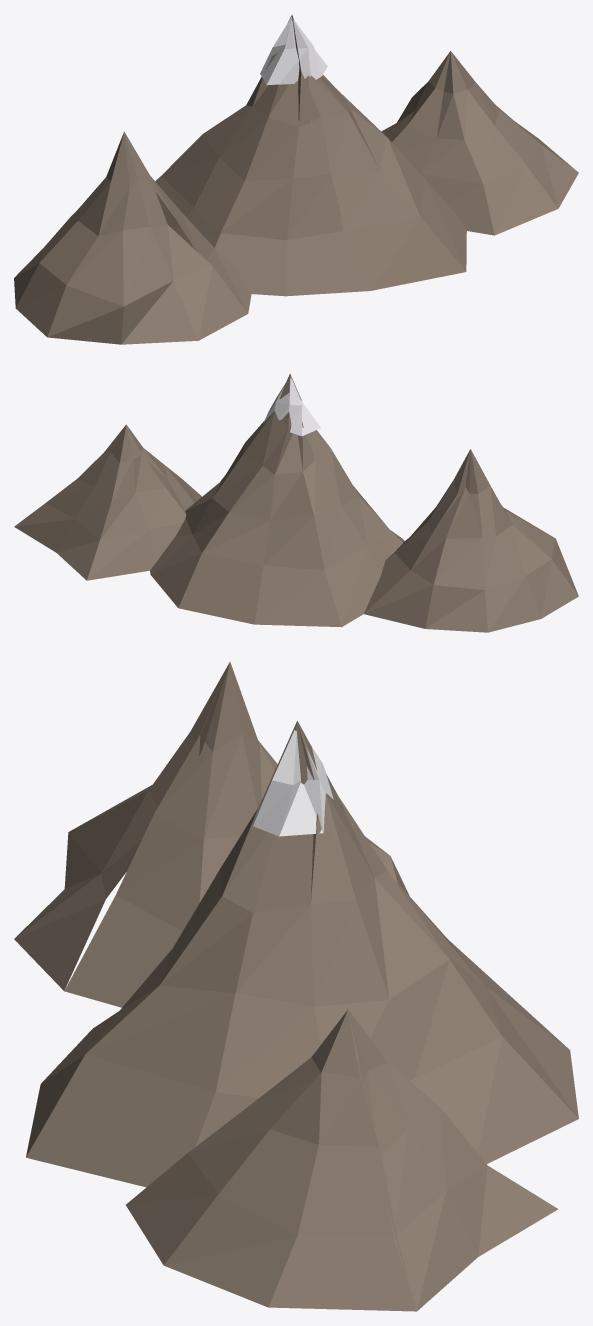
Rendered from mountain-ridge-a.glb.
3 views of the same model, one above another, from view 1: azimuth 30°, elevation 25°; view 2: azimuth 150°, elevation 25°; view 3: azimuth 270°, elevation 25° (orthographic). The views are drawn at different scales.
Visible parts, largest first — view 1: rock, snow; view 2: rock, snow; view 3: rock, snow.
Boxes of the visible parts, x1=… form: rock: x1=14, y1=14, x2=578, y2=344; snow: x1=260, y1=17, x2=327, y2=85; rock: x1=14, y1=373, x2=578, y2=632; snow: x1=263, y1=377, x2=320, y2=436; rock: x1=14, y1=661, x2=578, y2=1311; snow: x1=252, y1=729, x2=333, y2=836.
Size of the model in its own units: 225 by 82.75 by 117.
